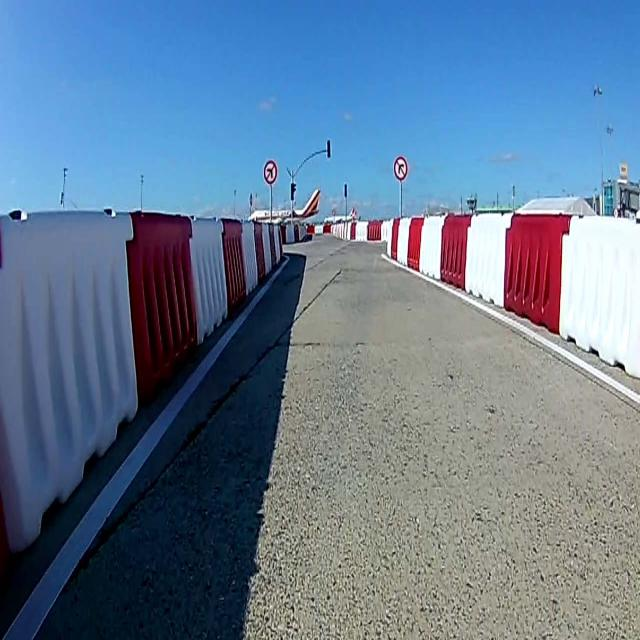sagadonulmez: (394, 156, 408, 182)
soladonulmez: (264, 160, 278, 183)
